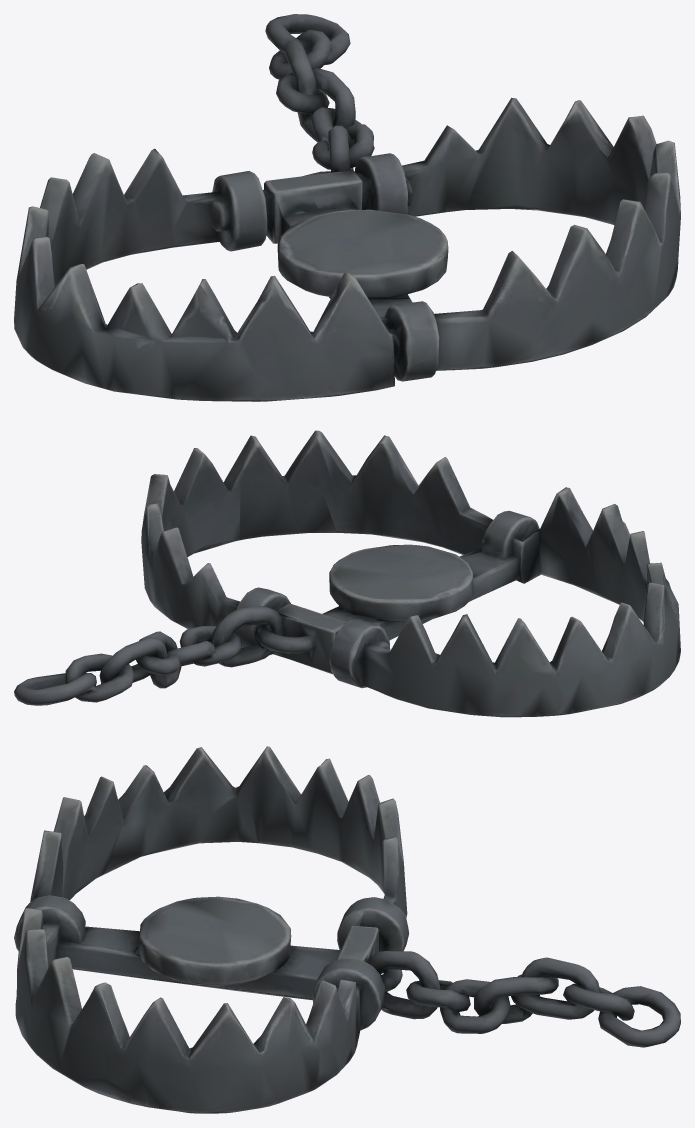
Rendered from beartrap.glb.
The picture shows the model from 3 angles, top to bottom: view 1: azimuth 30°, elevation 25°; view 2: azimuth 150°, elevation 25°; view 3: azimuth 270°, elevation 25°; orthographic projection. The views are drawn at different scales.
Visible parts, largest first — view 1: beartrap-node; view 2: beartrap-node; view 3: beartrap-node.
Part boxes in pixels (<box>): beartrap-node: <box>14,14,680,401</box>; beartrap-node: <box>14,430,680,717</box>; beartrap-node: <box>14,746,680,1113</box>.
Bounding box in the file's own units: 5.14 × 1 × 5.32.
Materials: 1 (1 with a texture image).
